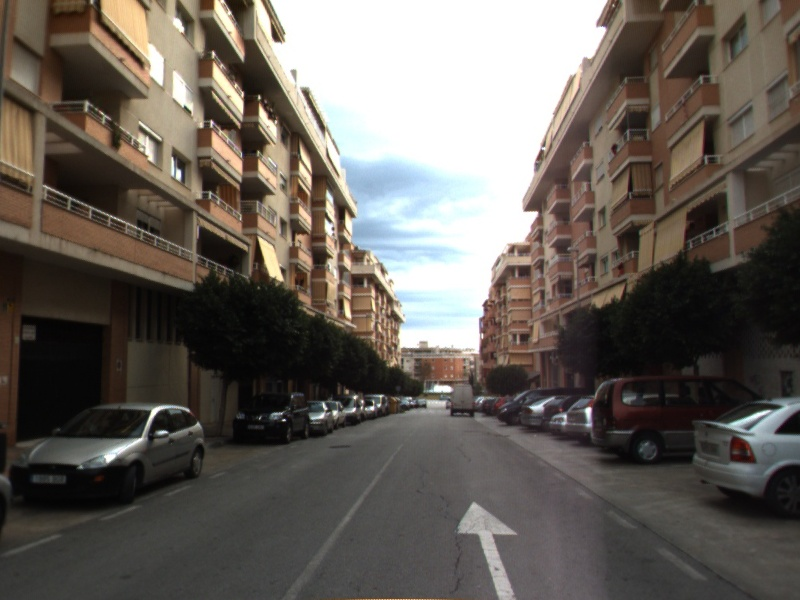STRAIGHT: (451, 499, 520, 600)
